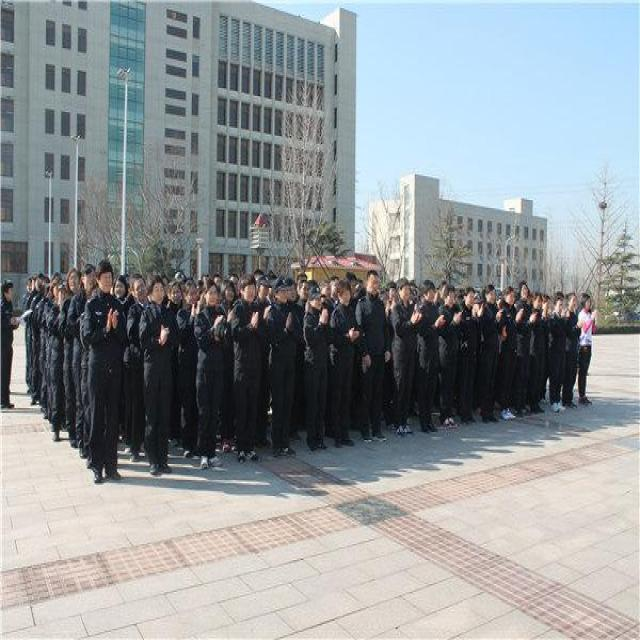non-fight: (77, 258, 133, 482), (136, 274, 182, 476), (228, 272, 268, 462), (192, 279, 231, 472)
